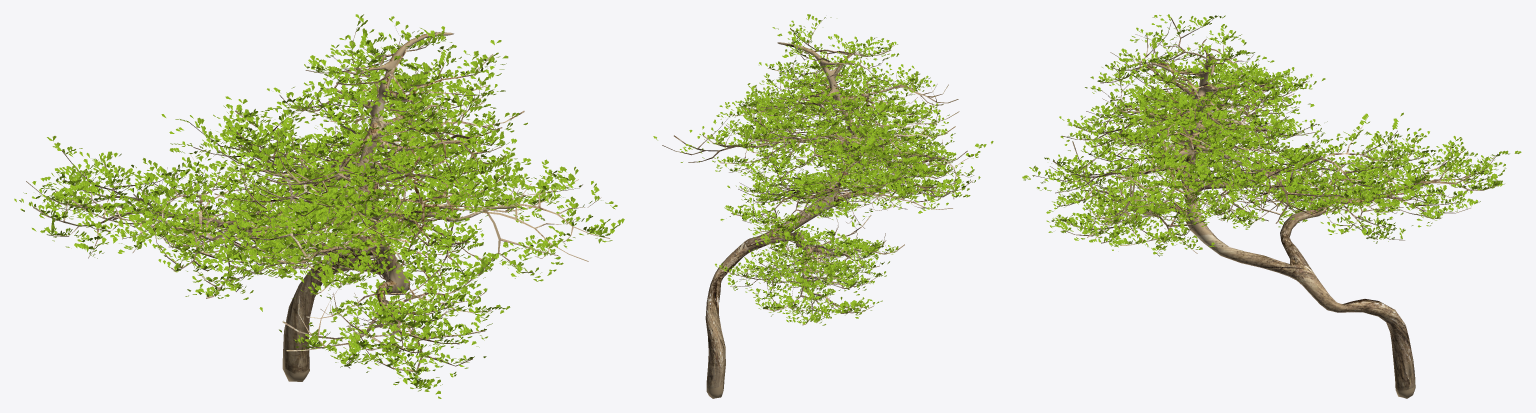
File: Tree.fbx
3 views of the same model, side by side, from view 1: azimuth 30°, elevation 25°; view 2: azimuth 150°, elevation 25°; view 3: azimuth 270°, elevation 25° (orthographic). The views are drawn at different scales.
Parts seen in each view (by area): view 1: Leafs, Branches, MainTree; view 2: Leafs, Branches, MainTree; view 3: Leafs, Branches, MainTree.
Boxes of the visible parts, bbox=[...] form: Leafs: bbox=[14, 14, 624, 398]; Branches: bbox=[26, 27, 609, 388]; MainTree: bbox=[112, 32, 516, 381]; Leafs: bbox=[653, 14, 993, 325]; Branches: bbox=[662, 20, 974, 325]; MainTree: bbox=[705, 42, 946, 398]; Leafs: bbox=[1022, 14, 1521, 255]; Branches: bbox=[1032, 17, 1497, 256]; MainTree: bbox=[1109, 39, 1425, 398].
Size of the model in its own units: 1097 by 1226 by 1533.
